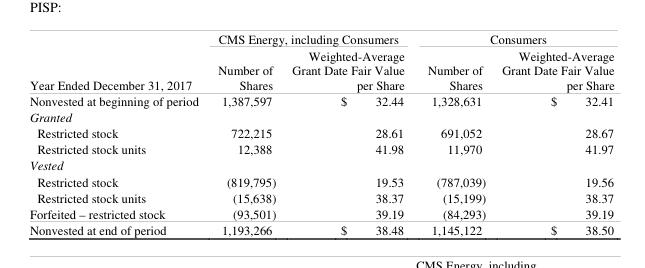table: (28, 29, 613, 237)
table column: (28, 29, 207, 237), (283, 29, 415, 237), (493, 29, 613, 237), (415, 29, 493, 237), (207, 29, 283, 237)
table column header: (28, 29, 613, 92)
table projected row header: (28, 108, 613, 124), (28, 157, 613, 172)
table row: (28, 46, 613, 92), (28, 29, 613, 46), (28, 140, 613, 157), (28, 220, 613, 237), (28, 92, 613, 108), (28, 108, 613, 124), (28, 124, 613, 140), (28, 172, 613, 188), (28, 188, 613, 204), (28, 204, 613, 220), (28, 157, 613, 172)
table spanning cell: (28, 29, 207, 92), (207, 29, 415, 46), (415, 29, 613, 46)
